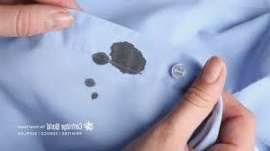ink: (111, 42, 145, 74), (92, 53, 107, 64), (85, 78, 95, 86), (92, 93, 98, 99)
